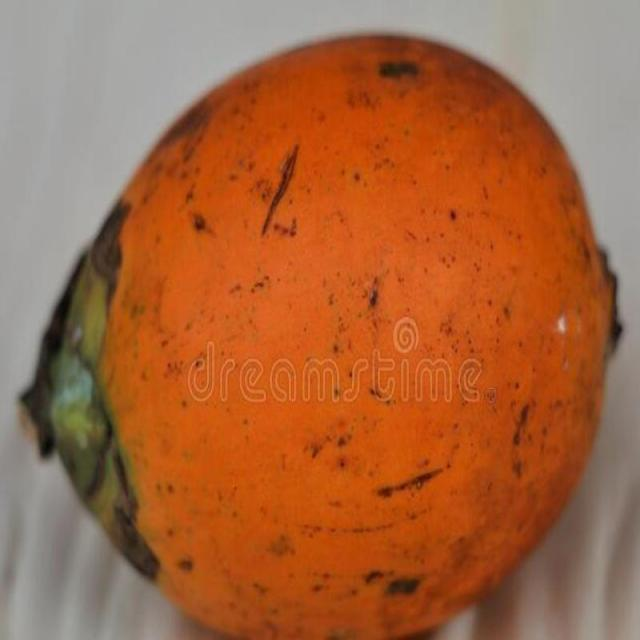good: (18, 32, 622, 639)
